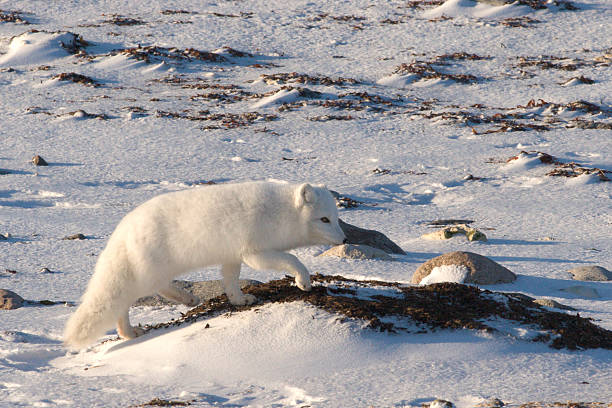arcticfox: (300, 188, 351, 254)
